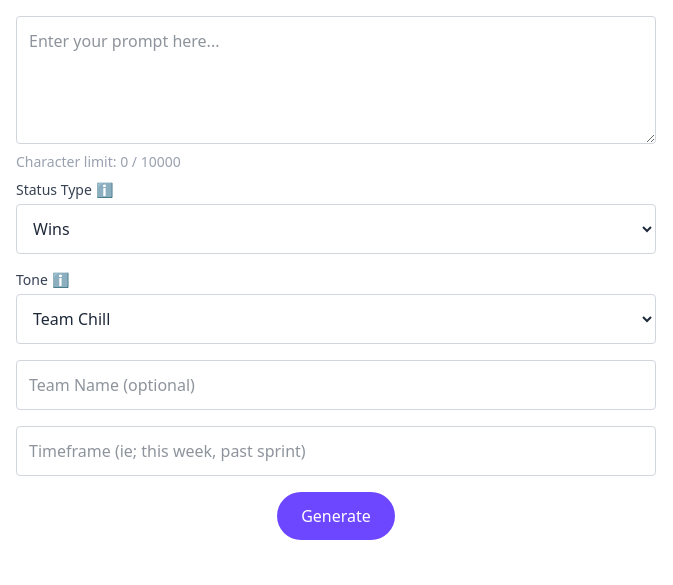
Test: PromptForm › shows an error if prompt is empty on submit
Click the button "Generate" at {"x": 336, "y": 516}, box [277,492,395,540]
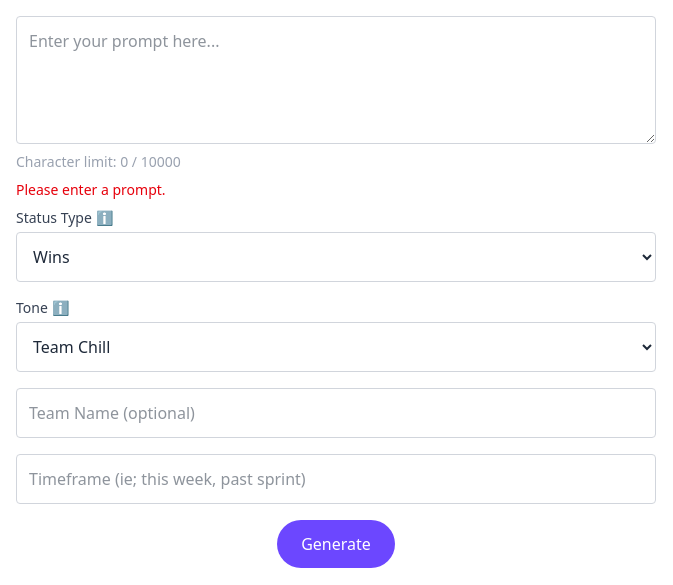
Now the text "Please enter a prompt." is shown, box [16,180,166,199]
